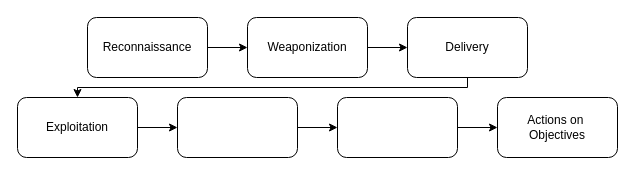
This 635x175 diagram has some shape labels left out. Each missing label, with the centre of its shape:
"Command and Control (C2)" goes at [397,127].
"Installation" goes at [237,127].
